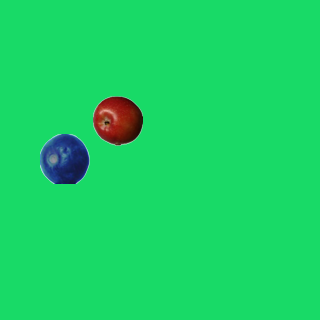Apple Braeburn: (92, 95, 142, 145)
Huckleberry: (39, 133, 89, 183)
